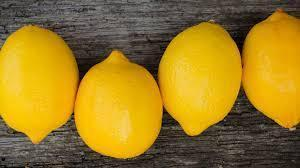lemon: (74, 49, 163, 159), (157, 21, 242, 136), (0, 24, 80, 145), (243, 8, 300, 128)
